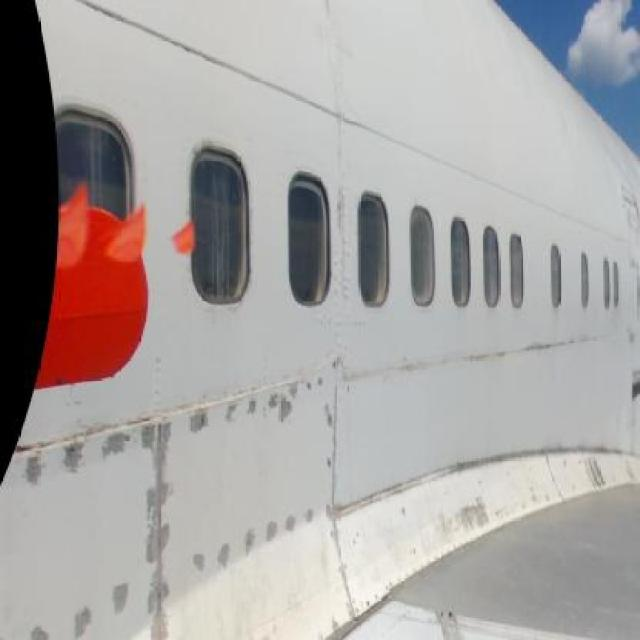Missing-Rivet: (190, 395, 295, 437), (24, 434, 128, 471), (343, 572, 406, 620), (192, 528, 260, 570), (265, 507, 320, 539), (323, 381, 335, 492)
Rust: (18, 424, 137, 482), (522, 328, 598, 382), (448, 491, 506, 537), (453, 341, 513, 376), (578, 456, 618, 492)
Scartch: (184, 374, 339, 452), (136, 418, 189, 640), (191, 494, 329, 568), (21, 569, 145, 640)
